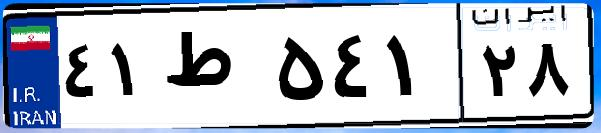1: (385, 28, 445, 110), (110, 28, 158, 98)
2: (475, 38, 525, 113)
4: (330, 28, 385, 110), (57, 26, 110, 100)
5: (270, 28, 330, 110)
8: (525, 38, 570, 115)
ط: (158, 20, 270, 120)
